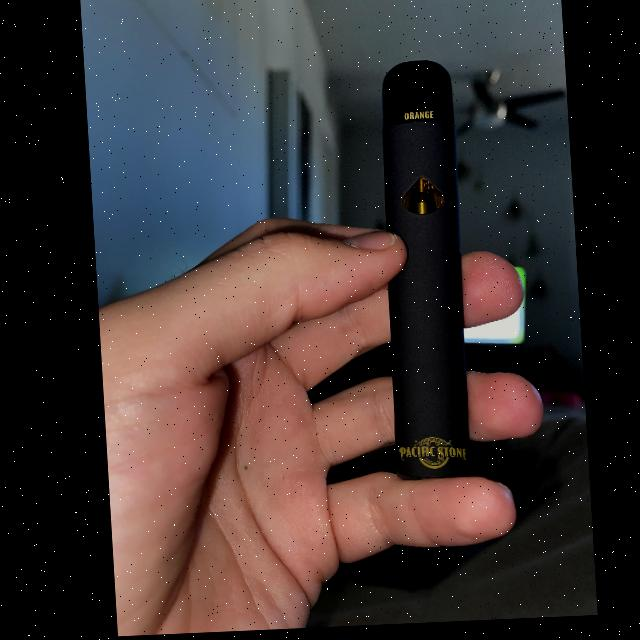vape: (370, 65, 471, 487)
